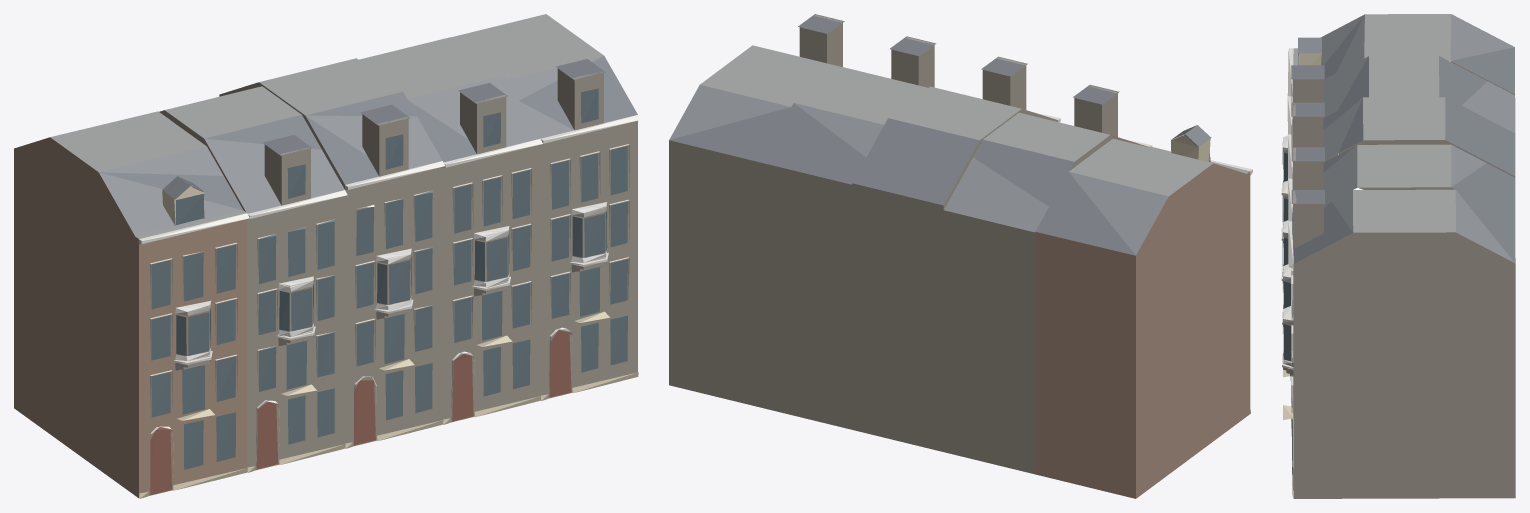
The model's file is chunk-face-wouwerman-2-44-r1.lod2.glb.
3 renders of one model, left to right at view 1: azimuth 30°, elevation 25°; view 2: azimuth 150°, elevation 25°; view 3: azimuth 270°, elevation 25°, orthographic. The views are drawn at different scales.
Parts seen in each view (by area): view 1: lod2; view 2: lod2; view 3: lod2.
Part boxes in pixels (left/top/right/bottom): lod2: left=14, top=14, right=640, bottom=498; lod2: left=669, top=14, right=1252, bottom=498; lod2: left=1281, top=14, right=1515, bottom=498.
Bounding box in the file's own units: 30.75 × 18.5 × 13.89.
